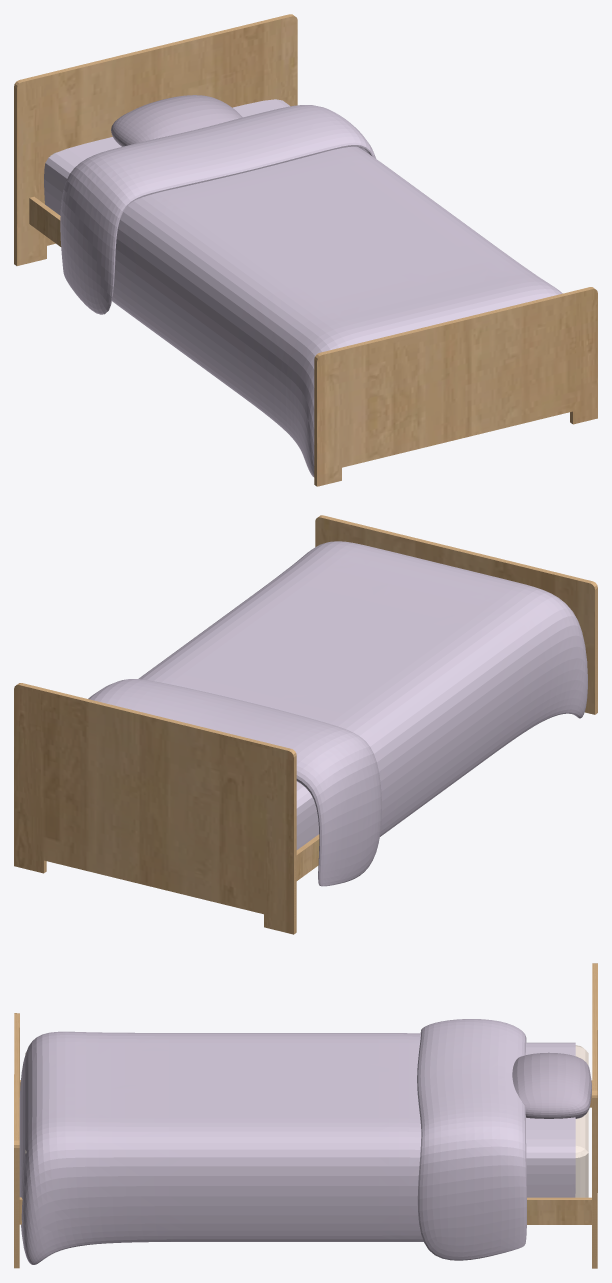
The model's file is by-juniorbed.glb.
3 views of the same model, one above another, from view 1: azimuth 30°, elevation 25°; view 2: azimuth 150°, elevation 25°; view 3: azimuth 270°, elevation 25° (orthographic). The views are drawn at different scales.
Visible parts, largest first — view 1: Plane.003_Plane.004, Cube_Cube.001, Cube.010_Cube.011, Plane.004_Plane.005, Cube.001_Cube.000; view 2: Plane.003_Plane.004, Cube_Cube.001, Plane.004_Plane.005, Cube.001_Cube.000; view 3: Plane.003_Plane.004, Cube.010_Cube.011, Plane.004_Plane.005, Cube_Cube.001, Cube.001_Cube.000, Cube.007_Cube.004.
Part boxes in pixels (bbox=[...]): Plane.003_Plane.004: bbox=[60, 105, 562, 477]; Cube_Cube.001: bbox=[14, 14, 597, 486]; Cube.010_Cube.011: bbox=[111, 95, 242, 146]; Plane.004_Plane.005: bbox=[44, 99, 289, 215]; Cube.001_Cube.000: bbox=[29, 196, 61, 246]; Plane.003_Plane.004: bbox=[88, 541, 587, 886]; Cube_Cube.001: bbox=[14, 515, 597, 934]; Plane.004_Plane.005: bbox=[296, 781, 318, 849]; Cube.001_Cube.000: bbox=[296, 834, 319, 880]; Plane.003_Plane.004: bbox=[19, 1019, 526, 1264]; Cube.010_Cube.011: bbox=[512, 1052, 591, 1118]; Plane.004_Plane.005: bbox=[525, 1042, 575, 1197]; Cube_Cube.001: bbox=[14, 963, 597, 1268]; Cube.001_Cube.000: bbox=[19, 1080, 592, 1224]; Cube.007_Cube.004: bbox=[25, 1045, 588, 1197].
Size of the model in its own units: 1.06 by 0.656 by 1.98.
Materials: 5 (1 with a texture image).
